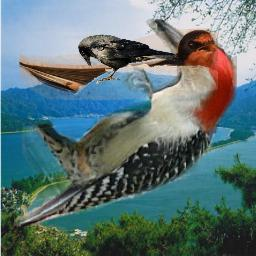Crow: (78, 34, 178, 85)
Swallow: (19, 28, 218, 100)
Woodpecker: (14, 19, 237, 227)
